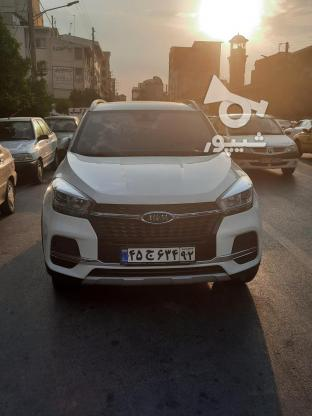car: (119, 245, 197, 263)
